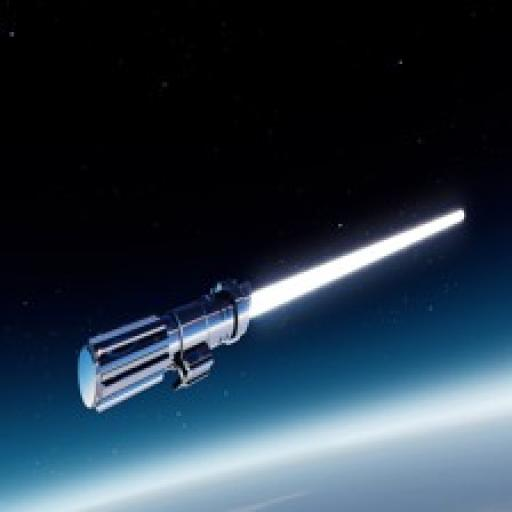lightsaber: (79, 204, 468, 422)
